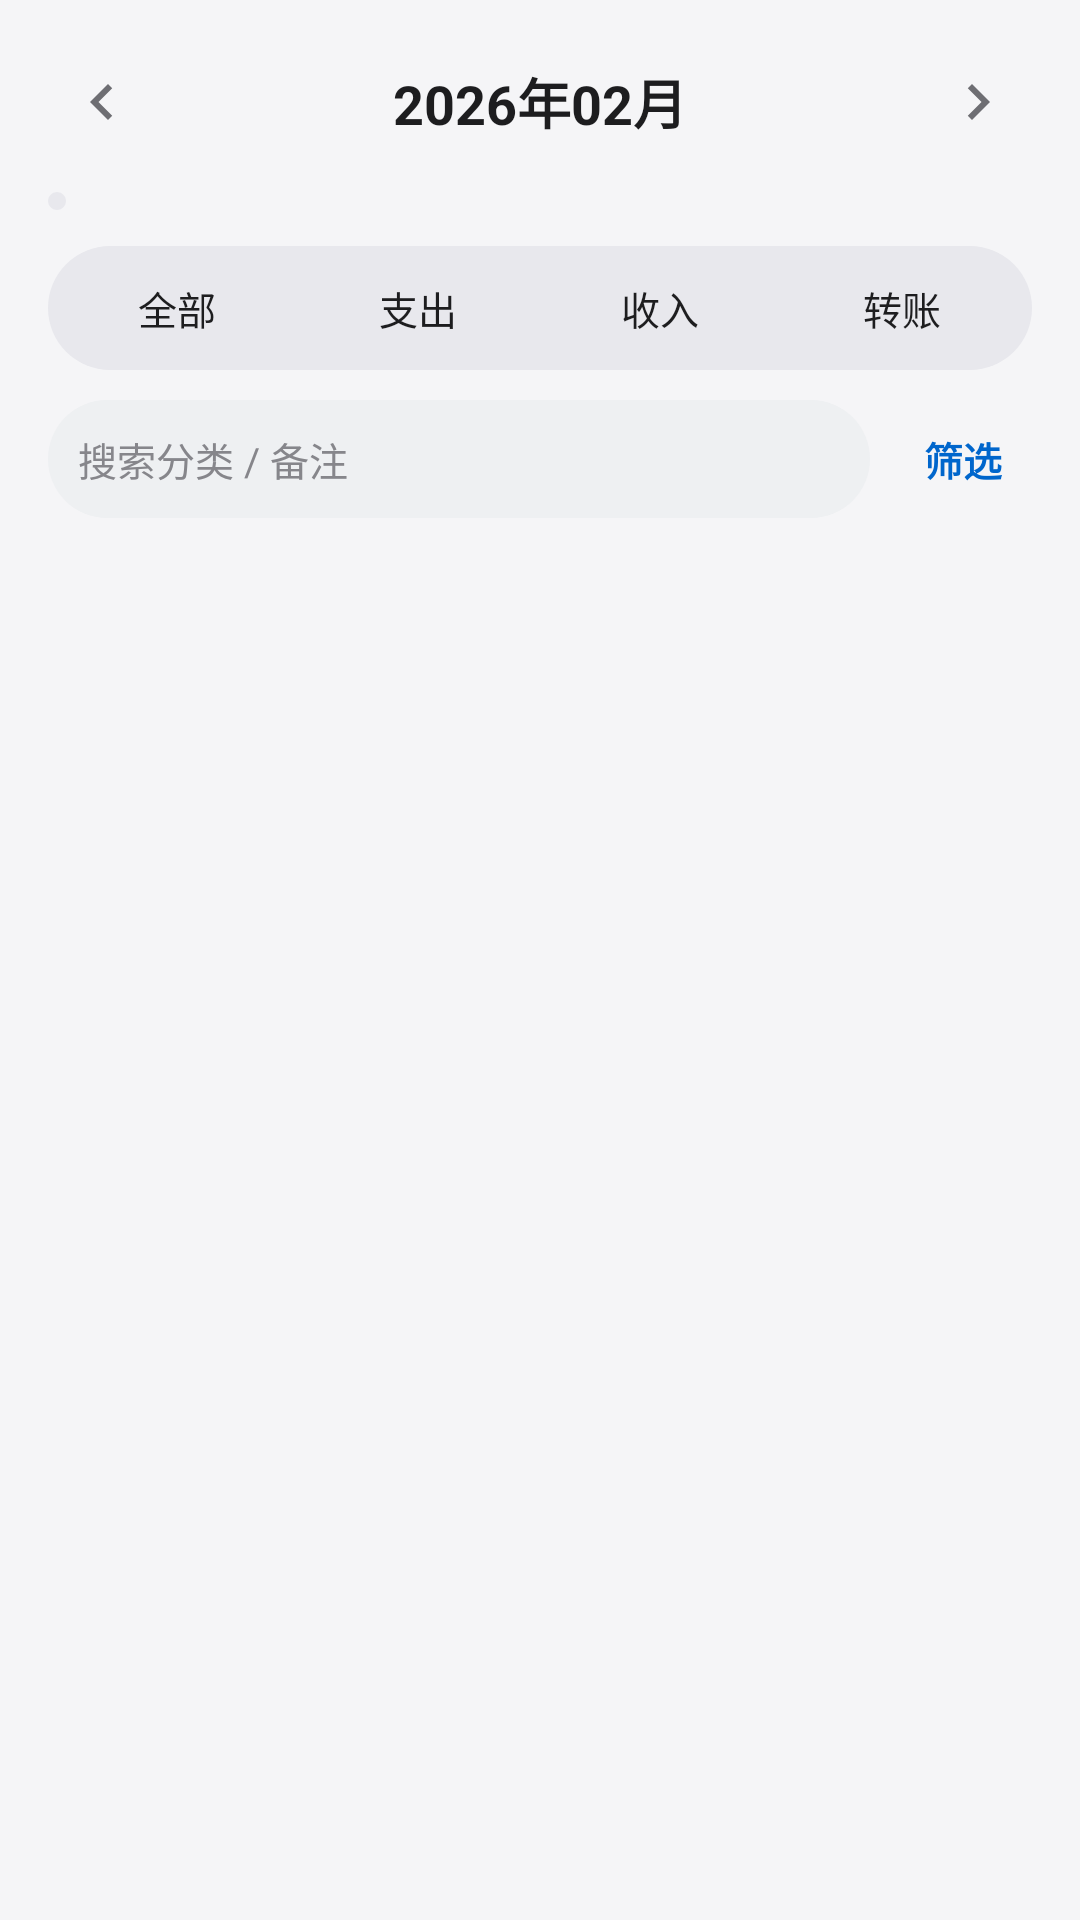

Icons on this 1080 x 1920 Android screen, each with the point to tap as [x,y]:
chev left: [101,102]
chev right: [979,102]
